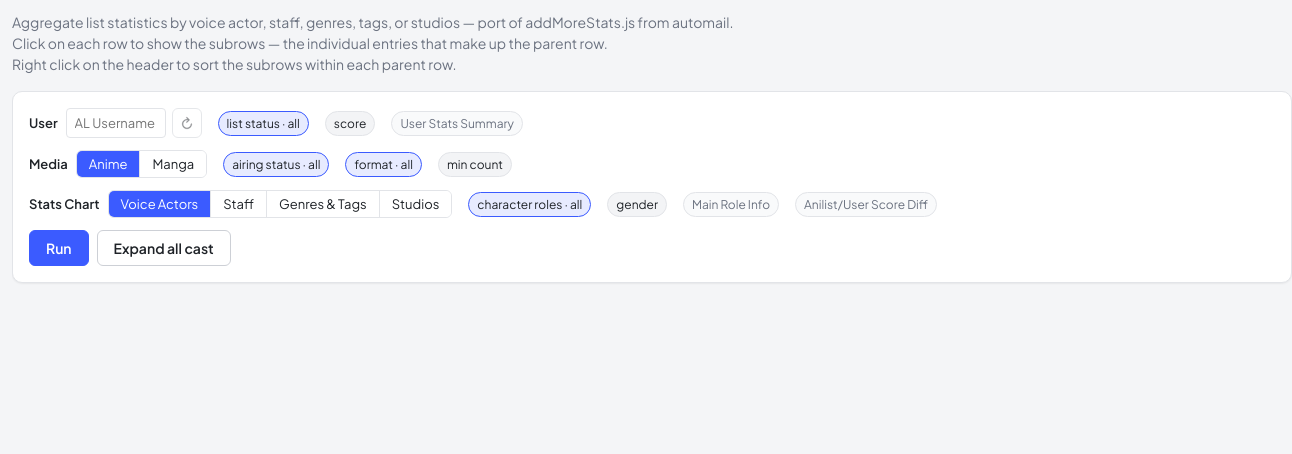
Scenario: StatsPanel filters › bulk selects and clears media formats
Click the button with class "filter-chip-button" showing "format · all": {"x": 384, "y": 164} left=354, top=156, right=413, bottom=172
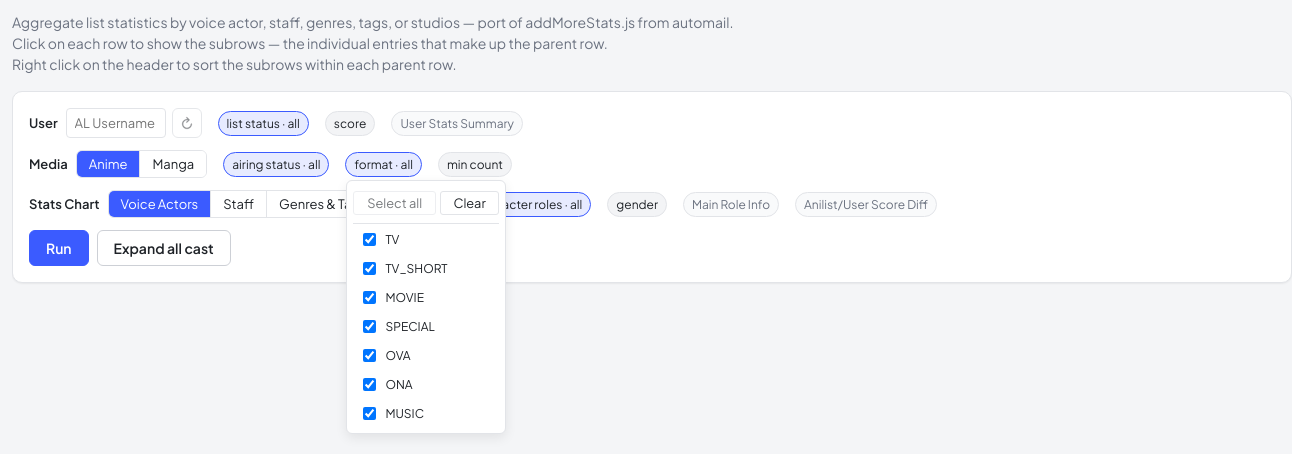
expect the button "Select all" is disabled: met, box left=353, top=190, right=436, bottom=214
expect the button "Clear" is enabled: met
Click the button "Clear": {"x": 470, "y": 202} left=440, top=190, right=500, bottom=214
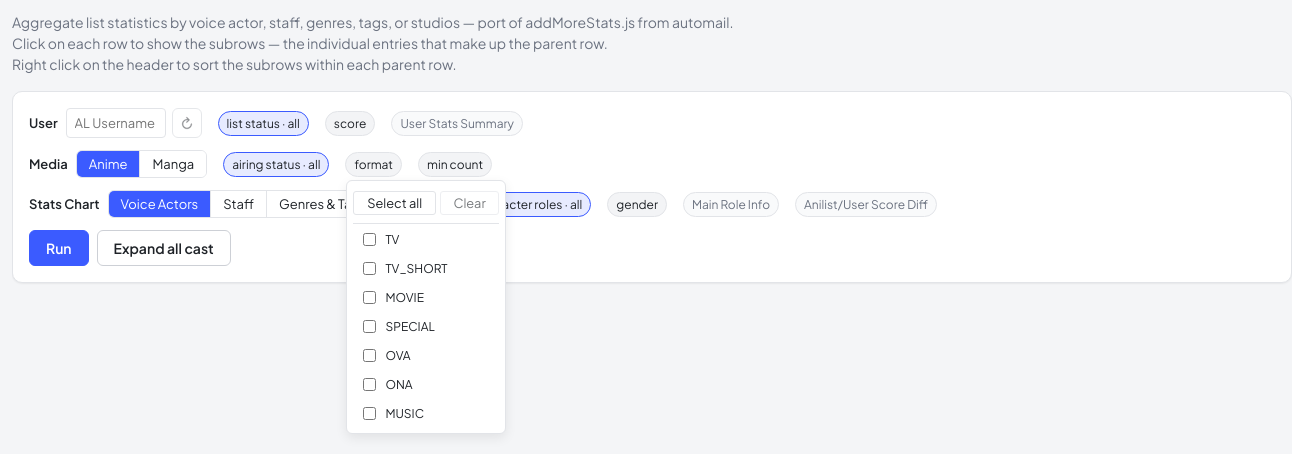
expect the button "format" is shown: met, box left=354, top=156, right=393, bottom=172
expect the button "Select all" is enabled: met
Click the button "Select all": {"x": 395, "y": 202} left=353, top=190, right=436, bottom=214
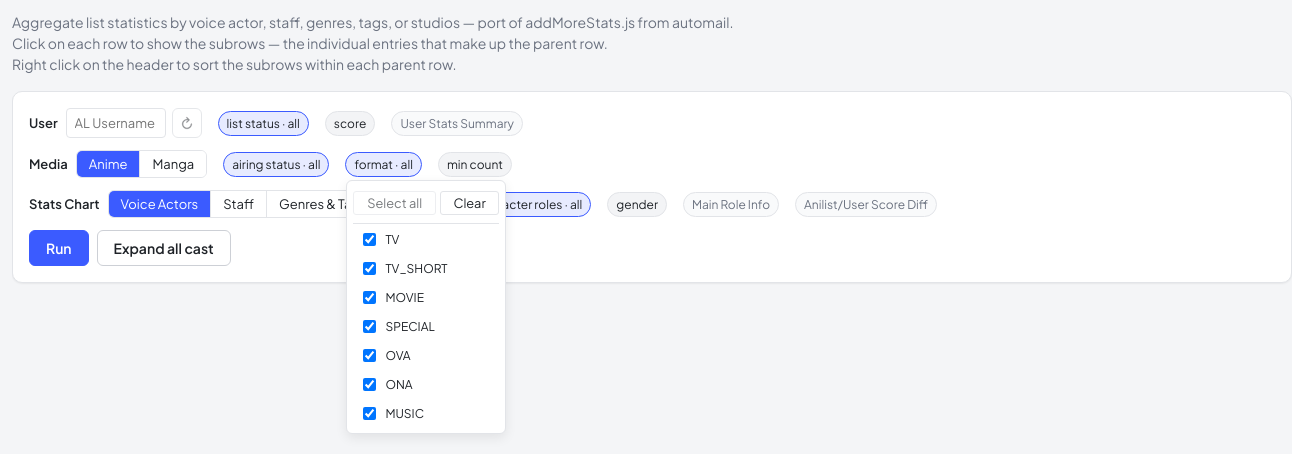
expect the button "format · all" is shown: met, box left=354, top=156, right=413, bottom=172
